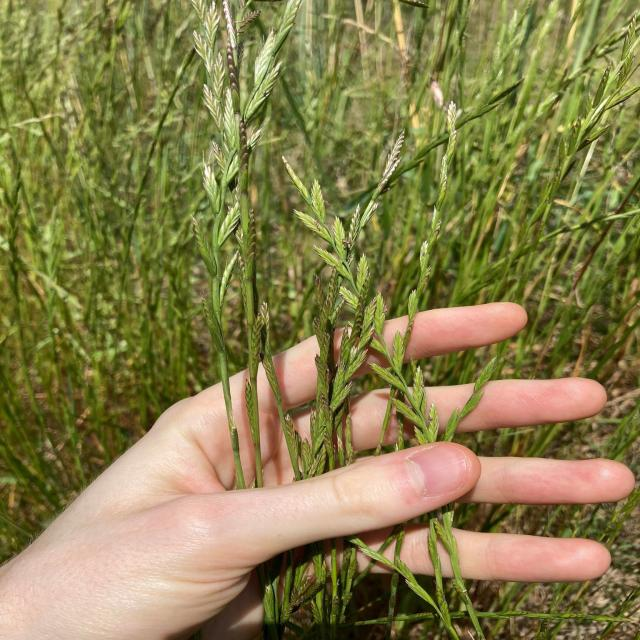Lolium: (283, 158, 479, 616), (304, 103, 465, 561), (279, 130, 402, 624), (194, 0, 300, 491)
